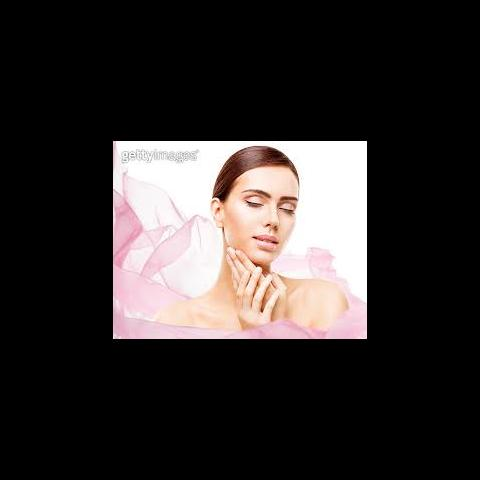closed: (238, 184, 300, 218)
